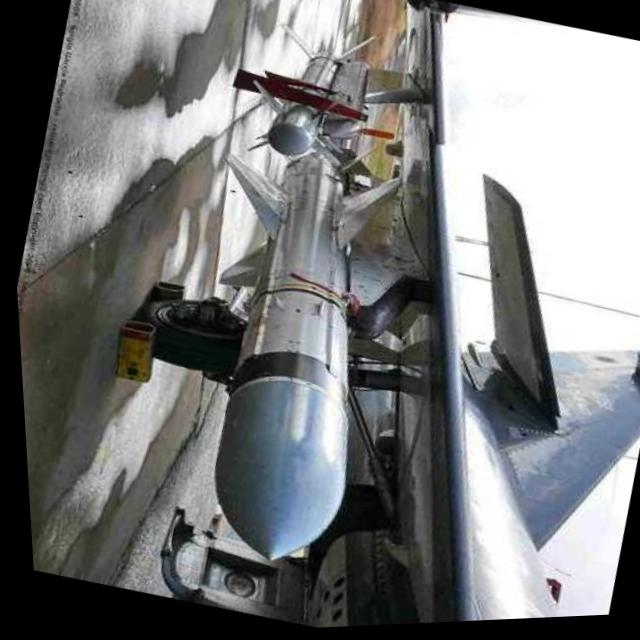missile: (129, 134, 424, 580), (235, 10, 383, 179)
